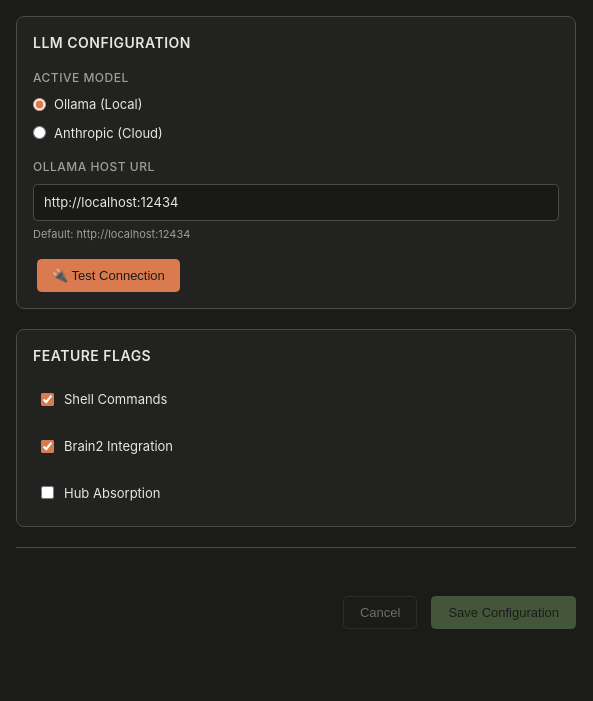
it: Environment Component › shows error on connection test failure
Click the button "🔌 Test Connection".
click(108, 275)  # box [37,258,180,292]
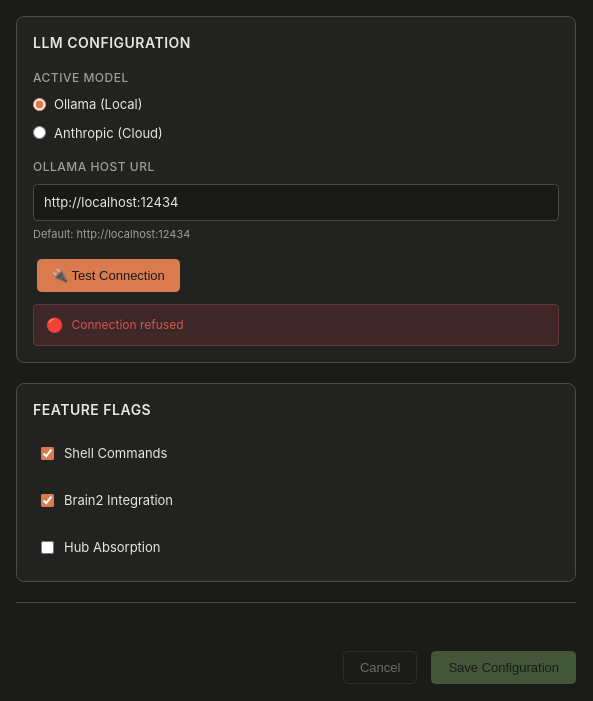
Result: the text "🔴 Connection refused" is shown at [33,304,559,346]
